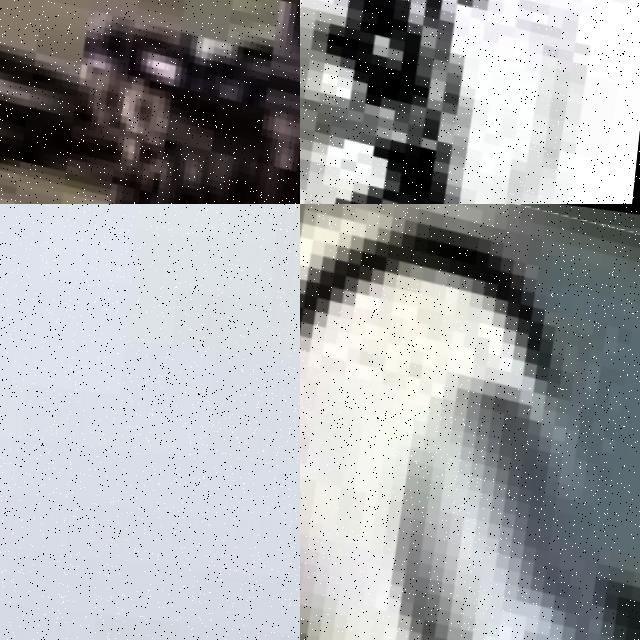drone: (300, 204, 640, 640), (300, 0, 640, 204), (0, 0, 300, 204)
